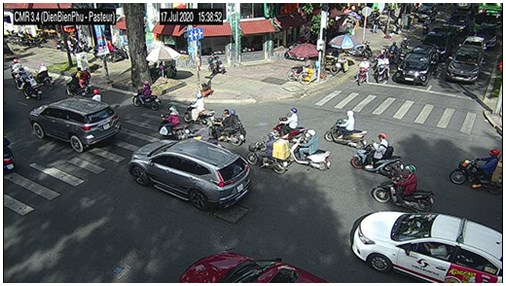xe_hoi: (351, 211, 502, 283), (131, 139, 251, 209), (28, 96, 121, 153), (180, 251, 332, 284), (397, 45, 440, 85), (446, 46, 484, 84), (424, 27, 453, 60), (462, 35, 486, 62), (475, 27, 497, 49), (450, 14, 471, 32)
xe_may: (372, 165, 436, 213), (450, 149, 502, 195), (352, 132, 403, 177), (247, 133, 290, 175), (290, 130, 330, 170), (326, 109, 367, 148), (272, 107, 308, 143), (214, 109, 246, 146), (184, 93, 215, 125), (158, 105, 187, 139), (132, 80, 161, 110), (23, 75, 43, 102), (73, 67, 92, 94), (36, 64, 55, 91), (375, 49, 389, 85), (4, 133, 14, 173), (357, 56, 370, 86), (10, 59, 22, 84)
